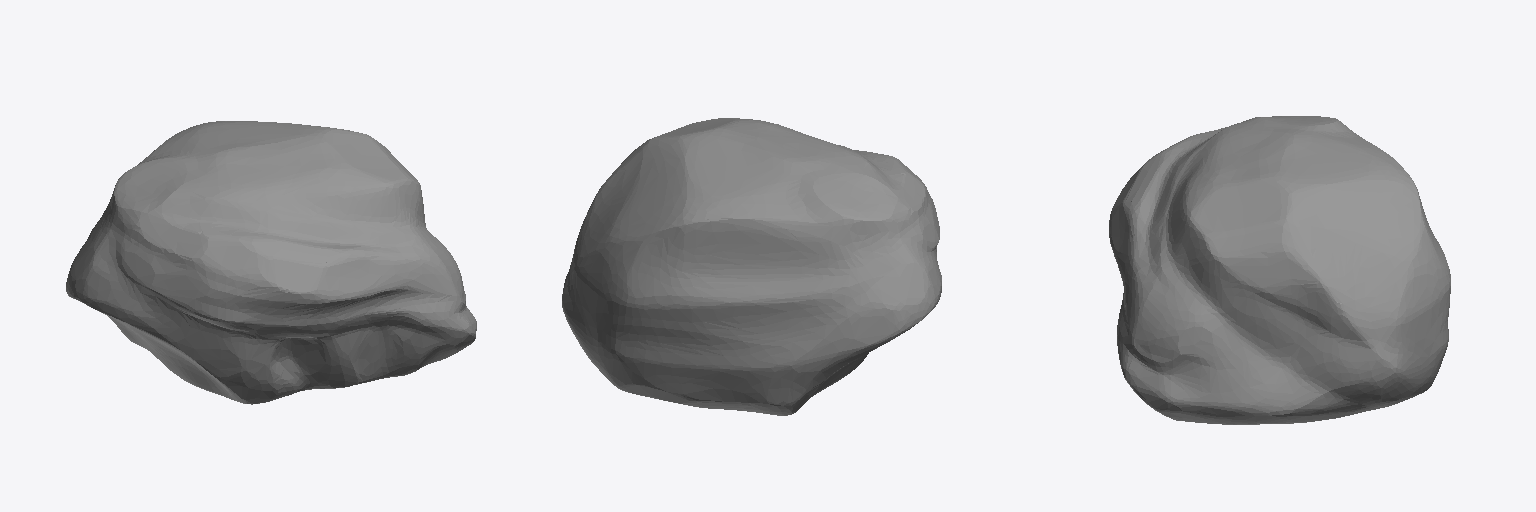
The model's file is StoneMedium_07.obj.
The picture shows the model from 3 angles: view 1: azimuth 30°, elevation 25°; view 2: azimuth 150°, elevation 25°; view 3: azimuth 270°, elevation 25°; orthographic projection.
Visible parts, largest first — view 1: g Group2_Group2; view 2: g Group2_Group2; view 3: g Group2_Group2.
Part boxes in pixels (left/top/right/bottom): g Group2_Group2: left=66, top=121, right=476, bottom=404; g Group2_Group2: left=562, top=118, right=941, bottom=415; g Group2_Group2: left=1109, top=116, right=1450, bottom=424.
Size of the model in its own units: 6.23 by 3.74 by 5.39.